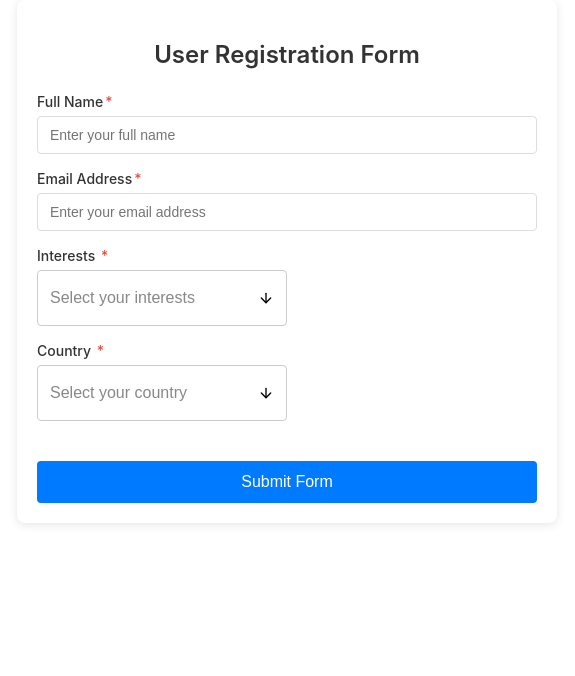
Test: Form Component › handles search in country dropdown
Click the button "Select your country". click: (162, 393)
box: [37,365,287,421]
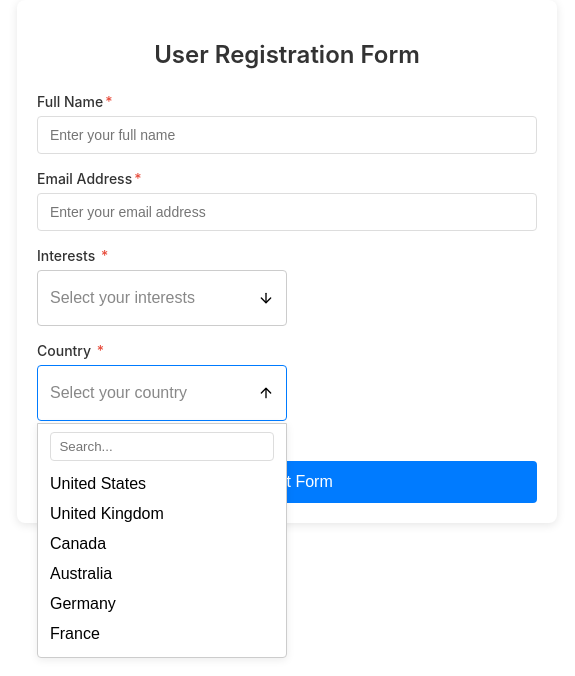
Type "United States" into the field with placeholder "Search...". click: (162, 446)
box: [50,432,274,461]
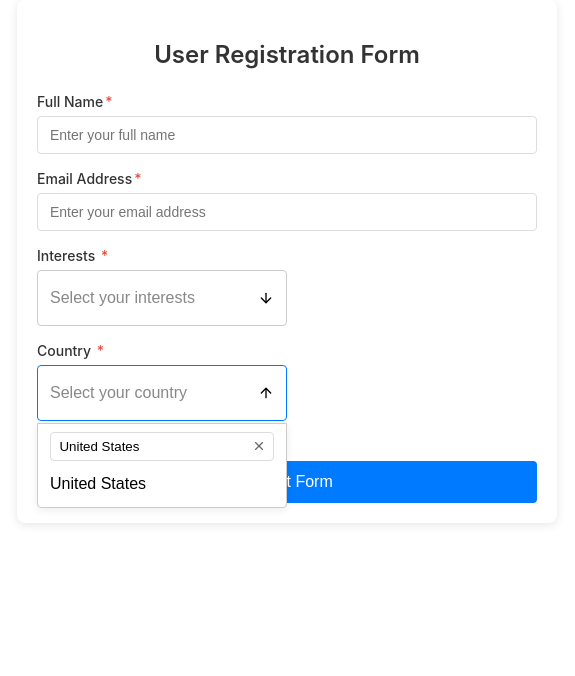
Expected: the text "United States" is shown, [50,475,146,493]
Expected: the text "Canada" is gone
